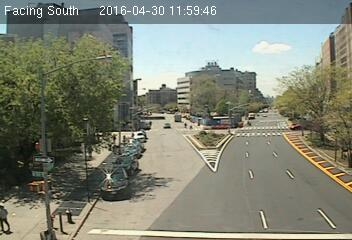neg: (198, 139, 227, 178), (267, 152, 295, 190), (157, 18, 184, 54), (130, 70, 152, 99), (72, 59, 94, 88), (166, 71, 188, 99), (104, 165, 125, 194), (163, 173, 184, 200), (26, 48, 47, 75), (298, 82, 317, 108), (67, 102, 86, 127), (234, 100, 252, 123), (121, 137, 137, 159), (63, 204, 79, 225), (245, 48, 260, 68), (38, 151, 52, 171), (93, 135, 103, 149)
